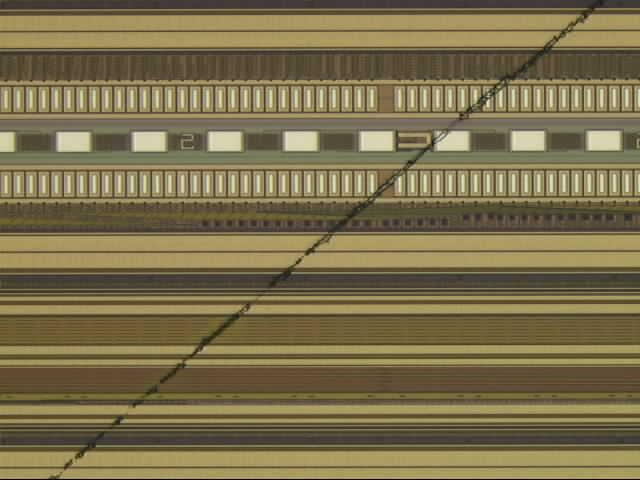SCRATCH: (41, 1, 609, 480)
